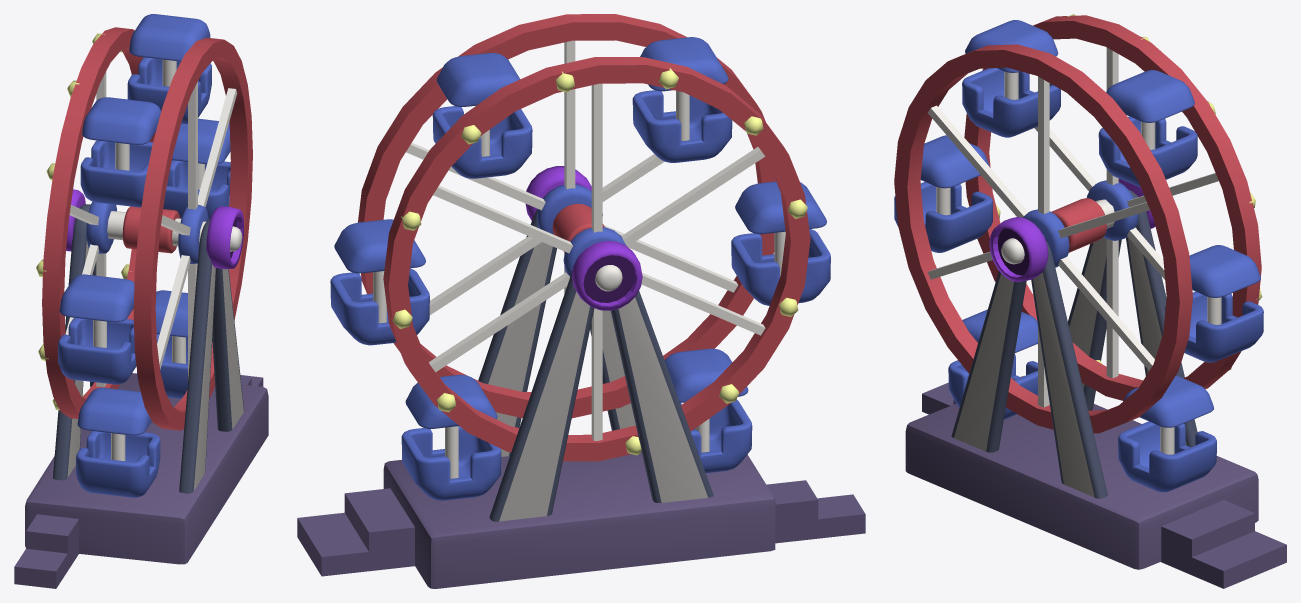
The model's file is WheelStand.fbx.
The picture shows the model from 3 angles, left to right: view 1: azimuth 30°, elevation 25°; view 2: azimuth 150°, elevation 25°; view 3: azimuth 270°, elevation 25°; orthographic projection. The views are drawn at different scales.
Visible parts, largest first — view 1: WheelStandShape; view 2: WheelStandShape; view 3: WheelStandShape.
Boxes of the visible parts, x1=… form: WheelStandShape: x1=14, y1=14, x2=268, y2=588; WheelStandShape: x1=297, y1=14, x2=865, y2=588; WheelStandShape: x1=894, y1=14, x2=1286, y2=588.
Bounding box in the file's own units: 13.68 × 15.2 × 11.91.
